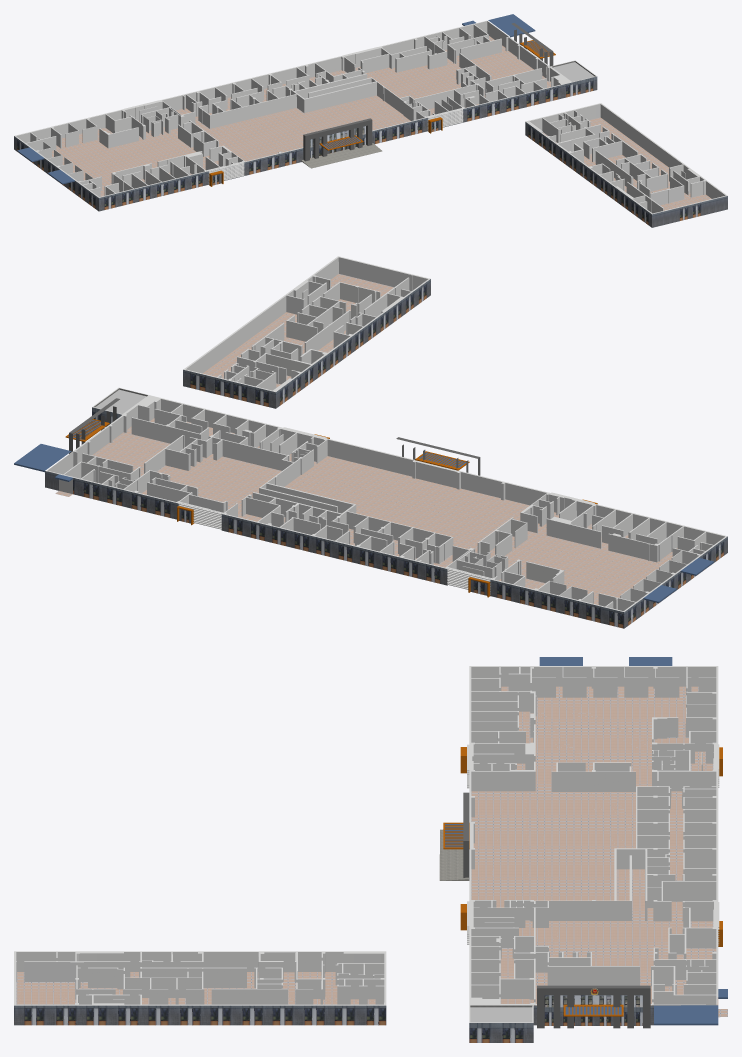
Rendered from fristFloor.glb.
3 views of the same model, one above another, from view 1: azimuth 30°, elevation 25°; view 2: azimuth 150°, elevation 25°; view 3: azimuth 270°, elevation 25° (orthographic). The views are drawn at different scales.
Parts seen in each view (by area): view 1: BAZX-03; view 2: BAZX-03; view 3: BAZX-03.
Boxes of the visible parts, x1,y1,x2,y2 form: BAZX-03: (14, 14, 727, 227); BAZX-03: (14, 256, 727, 628); BAZX-03: (14, 657, 727, 1042).
Bounding box in the file's own units: 118 × 6.04 × 97.41.
35 materials, 33 textured.
